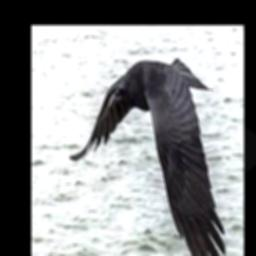Crow: (68, 55, 225, 256)
